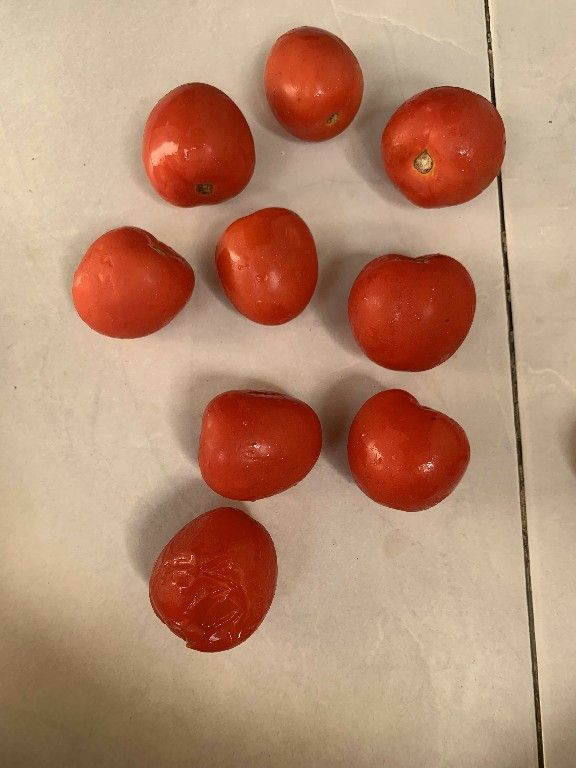NG: (133, 508, 292, 657)
OK: (347, 239, 483, 381), (180, 383, 322, 508), (378, 75, 506, 209), (344, 385, 472, 518), (62, 218, 199, 342), (137, 77, 260, 207), (212, 205, 323, 332), (262, 19, 368, 147)
